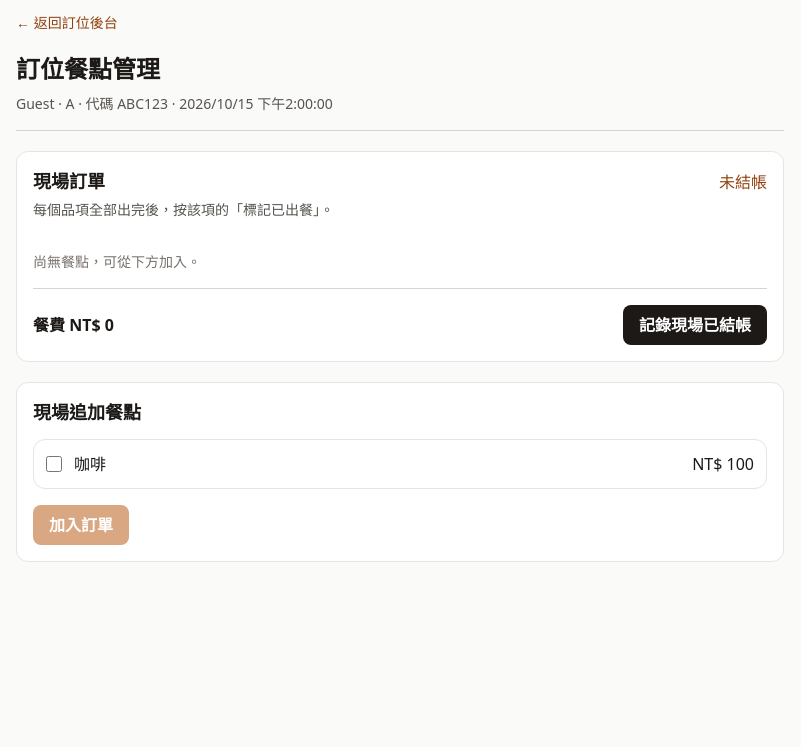
standalone same-tab warning › discloses unavailable storage and does not send when the user declines
The image size is (801, 747).
Click the checkbox named "選擇咖啡". click: (54, 464)
box: [46,456,62,472]
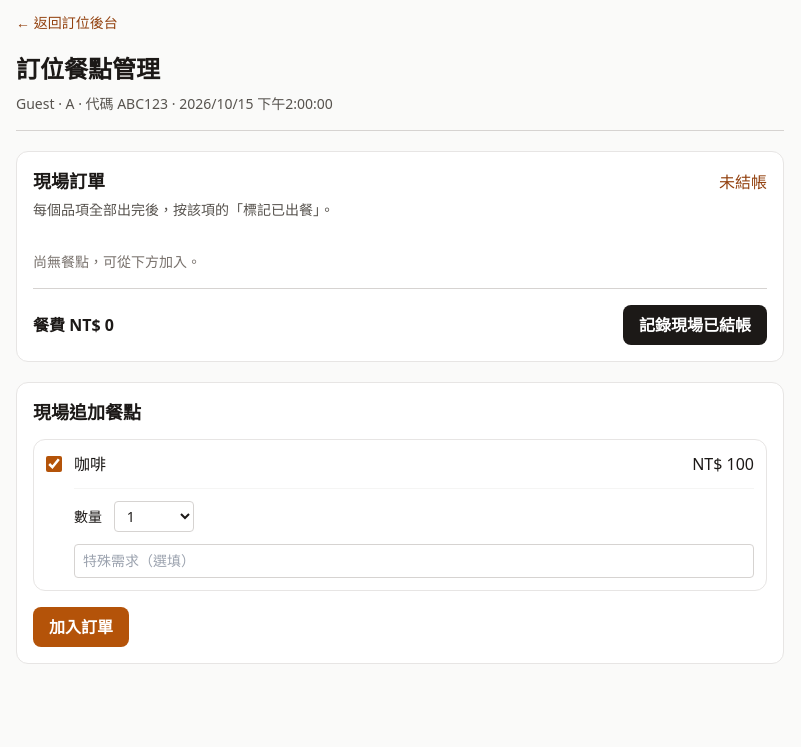
Click the button "加入訂單". click: (81, 627)
box: [33,607,129,647]
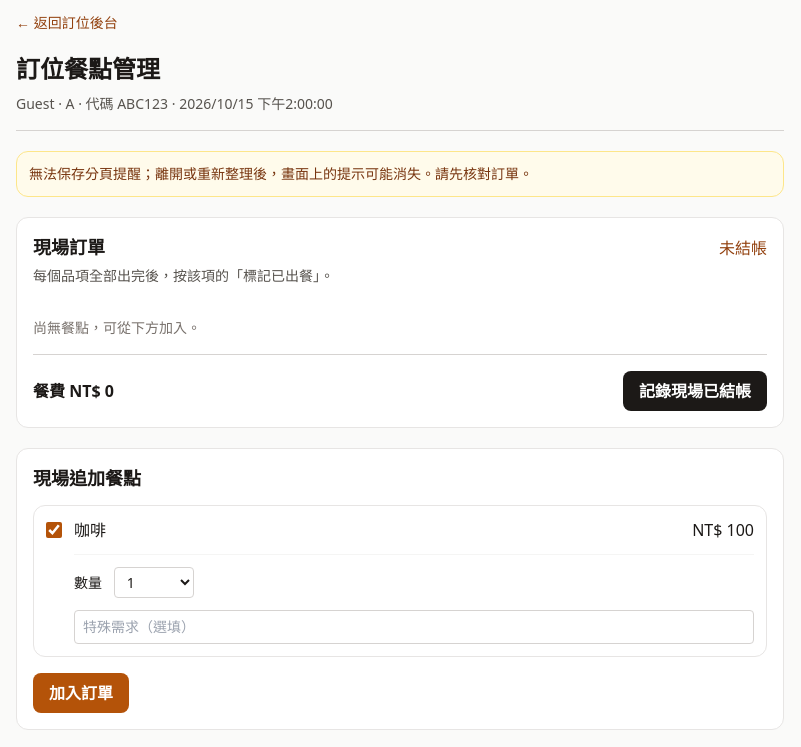
Expected: the text "無法保存分頁提醒；離開或重新整理後，畫面上的提示可能消失。請先核對訂單。" is shown, [29,164,533,183]
